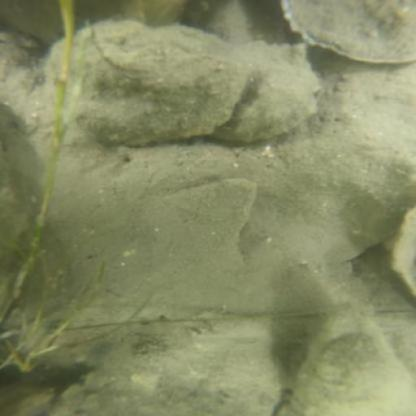Oyster- Indeterminate: (278, 315, 416, 416)
Oyster-Closed: (39, 22, 246, 146), (220, 39, 318, 141), (393, 207, 414, 292)
